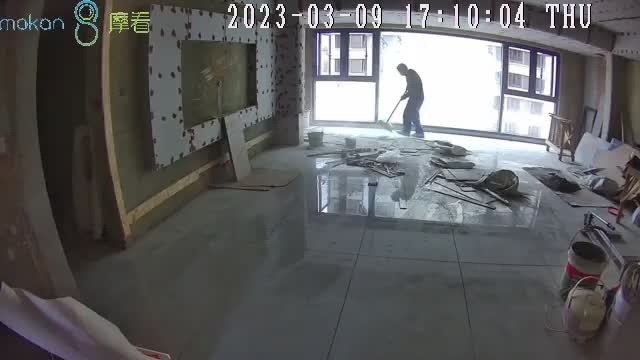people: (396, 62, 425, 139)
window: (310, 28, 559, 144)
